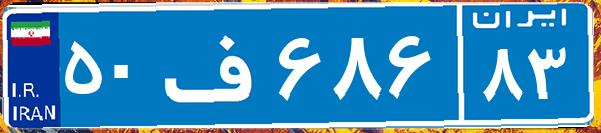0: (110, 28, 158, 105)
3: (525, 38, 570, 115)
5: (57, 26, 110, 107)
6: (385, 28, 445, 110), (273, 28, 330, 110)
8: (330, 28, 385, 110), (475, 38, 525, 113)
ف: (158, 15, 273, 115)
